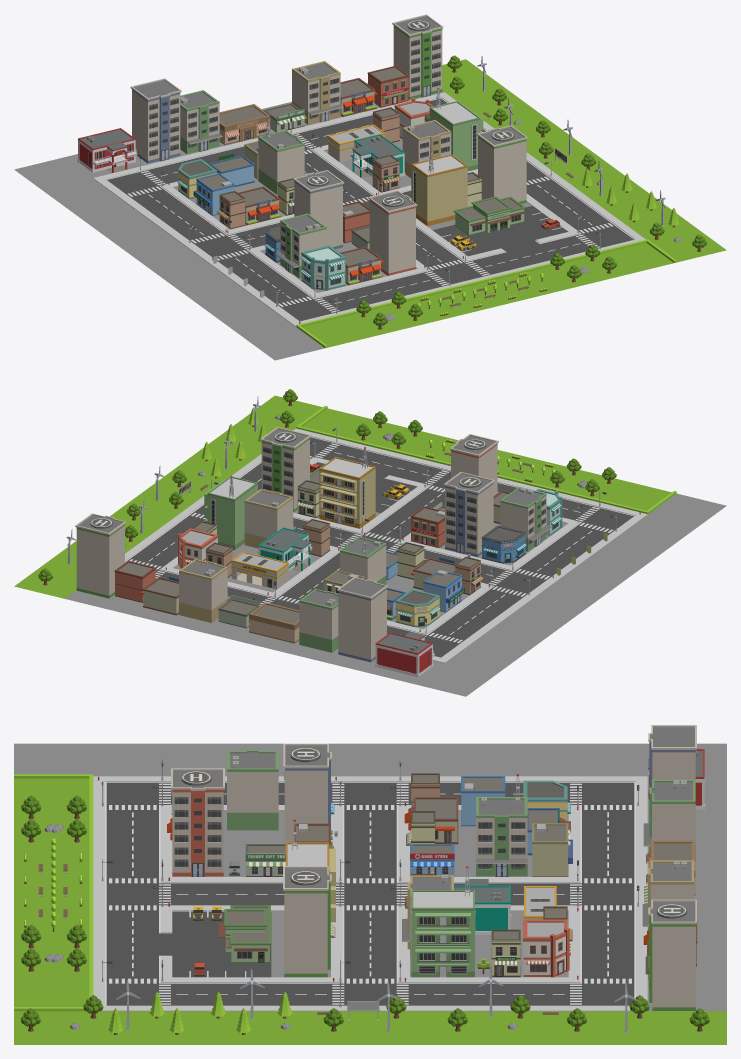
The model's file is Map_3.fbx.
3 renders of one model, top to bottom at view 1: azimuth 30°, elevation 25°; view 2: azimuth 150°, elevation 25°; view 3: azimuth 270°, elevation 25°, orthographic. The views are drawn at different scales.
Parts seen in each view (by area): view 1: Road_Concrete_Tile__6_, Natures_Grass_Tile__1_, Natures_Grass_Tile__9_, Building_Sky_big_color03__1_, Building_Residential_color03, Building_Sky_big_color01__1_, Building_Sky_big_color02, Building_Sky_big_color01, Building_Sky_small_color02__1_, Building_Sky_big_color03, Road_Tile__3_, Building_Sky_small_color03 (+50 smaller); view 2: Road_Concrete_Tile__6_, Natures_Grass_Tile__1_, Natures_Grass_Tile__9_, Road_Concrete_Tile__5_, Building_Sky_big_color03__1_, Building_Residential_color03, Building_Sky_big_color03, Building_Sky_big_color01__1_, Building_Sky_big_color01, Building_Sky_small_color02__1_, Building_Residential_color01, Building_Sky_small_color03__3_ (+49 smaller); view 3: Natures_Grass_Tile__9_, Road_Concrete_Tile__6_, Natures_Grass_Tile__1_, Road_Concrete_Tile__5_, Building_Residential_color01, Building_Sky_big_color02, Building_Sky_big_color01, Building_Sky_big_color01__1_, Building_Sky_small_color03, Building_Sky_small_color03__2_, Road_Tile__3_, Building_Sky_big_color03 (+58 smaller).
Boxes of the visible parts, x1,y1,x2,y2 form: Road_Concrete_Tile__6_: (14, 157, 324, 360); Natures_Grass_Tile__1_: (302, 229, 726, 347); Natures_Grass_Tile__9_: (442, 59, 697, 240); Building_Sky_big_color03__1_: (130, 78, 181, 163); Building_Residential_color03: (411, 154, 467, 226); Building_Sky_big_color01__1_: (392, 14, 443, 99); Building_Sky_big_color02: (368, 190, 417, 275); Building_Sky_big_color01: (477, 125, 527, 203); Building_Sky_small_color02__1_: (292, 61, 343, 124); Building_Sky_big_color03: (293, 170, 344, 249); Road_Tile__3_: (432, 206, 567, 256); Building_Sky_small_color03: (258, 130, 308, 194); Road_Concrete_Tile__6_: (416, 493, 726, 696); Natures_Grass_Tile__1_: (246, 395, 671, 510); Natures_Grass_Tile__9_: (14, 417, 295, 598); Road_Concrete_Tile__5_: (64, 590, 444, 684); Building_Sky_big_color03__1_: (337, 577, 387, 662); Building_Residential_color03: (319, 457, 375, 528); Building_Sky_big_color03: (443, 472, 494, 556); Building_Sky_big_color01__1_: (75, 513, 126, 598); Building_Sky_big_color01: (260, 427, 311, 511); Building_Sky_small_color02__1_: (179, 559, 230, 622); Building_Residential_color01: (204, 476, 257, 550); Building_Sky_small_color03__3_: (299, 589, 338, 652); Natures_Grass_Tile__9_: (93, 1011, 726, 1044); Road_Concrete_Tile__6_: (14, 743, 726, 776); Natures_Grass_Tile__1_: (14, 778, 93, 1044); Road_Concrete_Tile__5_: (647, 777, 726, 1011); Building_Residential_color01: (411, 890, 475, 977); Building_Sky_big_color02: (171, 768, 224, 876); Building_Sky_big_color01: (283, 866, 331, 977); Building_Sky_big_color01__1_: (648, 899, 696, 1010); Building_Sky_small_color03: (476, 797, 527, 876); Building_Sky_small_color03__2_: (227, 750, 278, 830); Road_Tile__3_: (172, 911, 271, 977); Building_Sky_big_color03: (283, 743, 331, 843).
Size of the model in its own units: 18000 by 2711 by 18000.
Materials: 35 (35 with a texture image).
